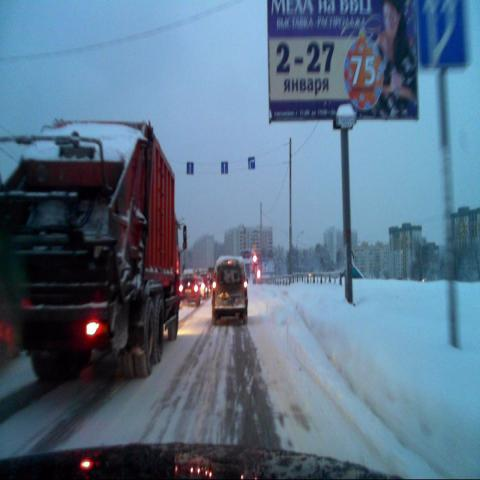5_15_2: (248, 154, 256, 171), (185, 160, 194, 175), (221, 160, 228, 175)
5_15_3: (417, 0, 471, 68)
